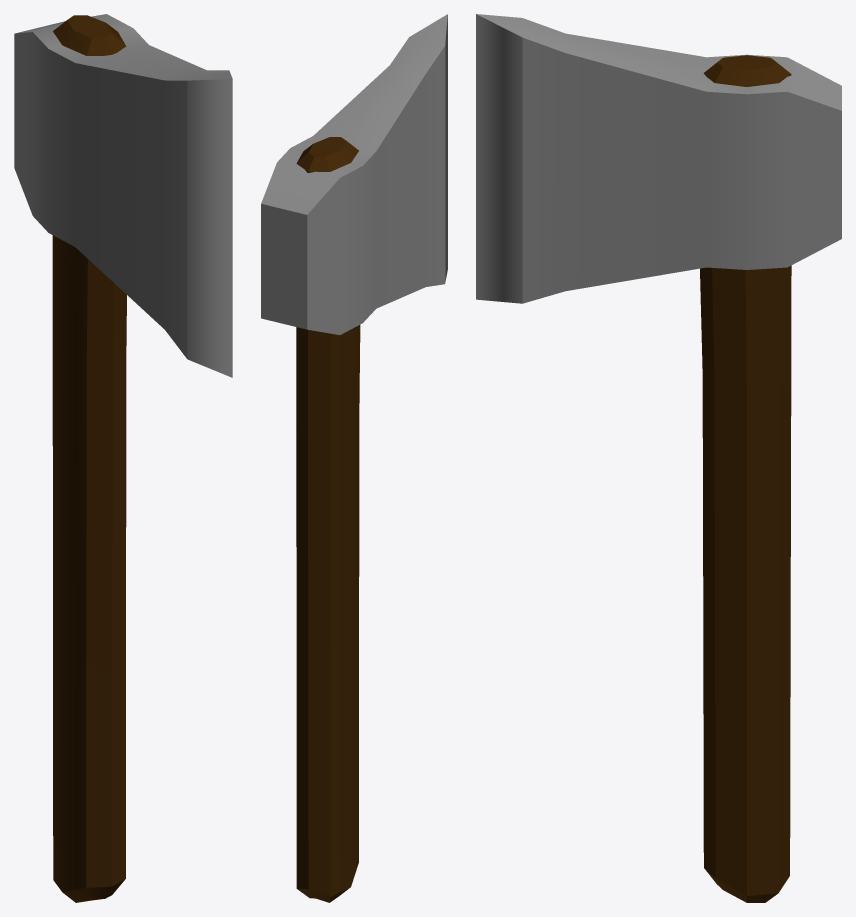
The model's file is PlaceholderAxe.fbx.
The picture shows the model from 3 angles, left to right: view 1: azimuth 30°, elevation 25°; view 2: azimuth 150°, elevation 25°; view 3: azimuth 270°, elevation 25°; orthographic projection. The views are drawn at different scales.
Visible parts, largest first — view 1: Head, Handle; view 2: Head, Handle; view 3: Head, Handle.
Part boxes in pixels (x1,y1,x2,y2): Head: (14,14,232,377); Handle: (52,15,126,902); Head: (261,14,447,334); Handle: (296,137,360,902); Head: (476,14,841,303); Handle: (700,55,791,902).
Size of the model in its own units: 95.15 by 992 by 372.
